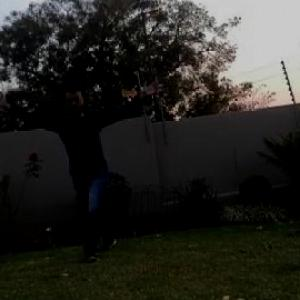takeoff: (20, 80, 178, 261)
